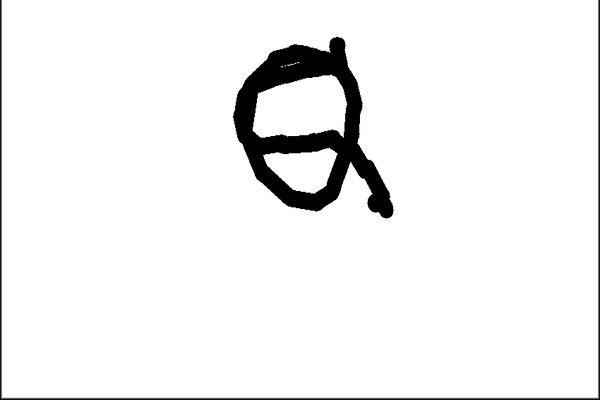Q: (218, 29, 399, 235)
